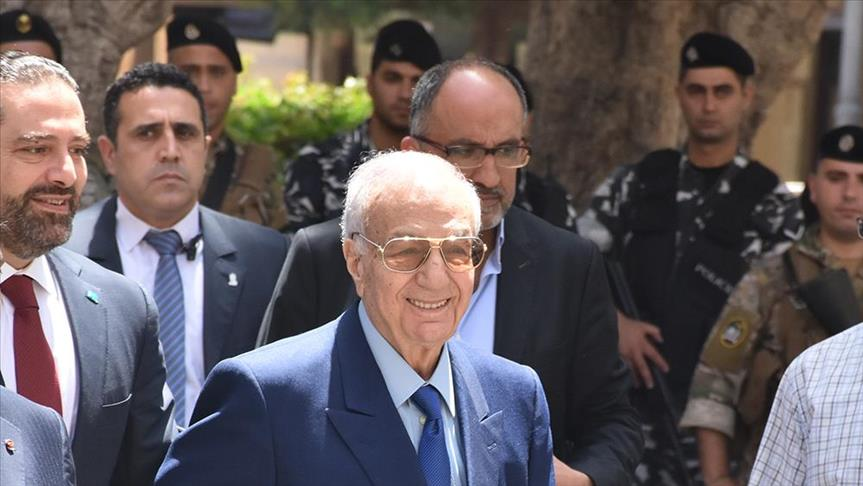without_mask: (1, 114, 88, 234), (374, 223, 473, 328), (128, 116, 199, 203), (446, 128, 517, 210), (684, 76, 739, 132), (181, 58, 226, 120), (818, 165, 863, 225), (380, 63, 422, 126)
